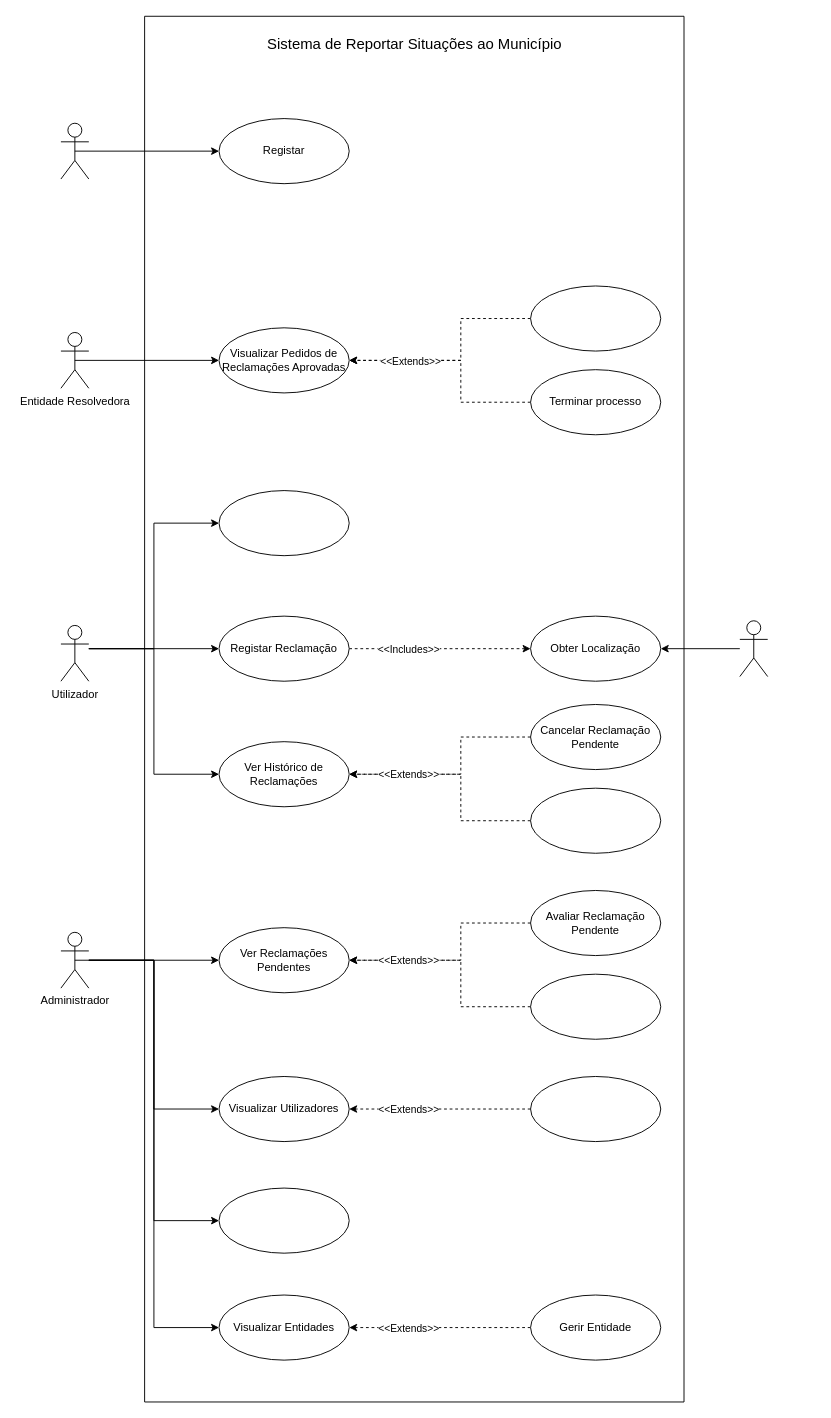
This 831x1418 diagram has some shape labels left out. The centre of each missing label's shape, as x and y in pixels:
Criar Entidade: (x=283, y=1220)
Editar Reclamação Pendente: (x=595, y=820)
Finalizar Processo de Reclamação: (x=595, y=1006)
Gerir Utilizadores: (x=595, y=1109)
Iniciar Processo de Resolução de Reclamação: (x=595, y=318)
Login: (x=283, y=523)
Servidor GeoLocalização: (x=753, y=648)
Utilizador não registado: (x=74, y=150)
